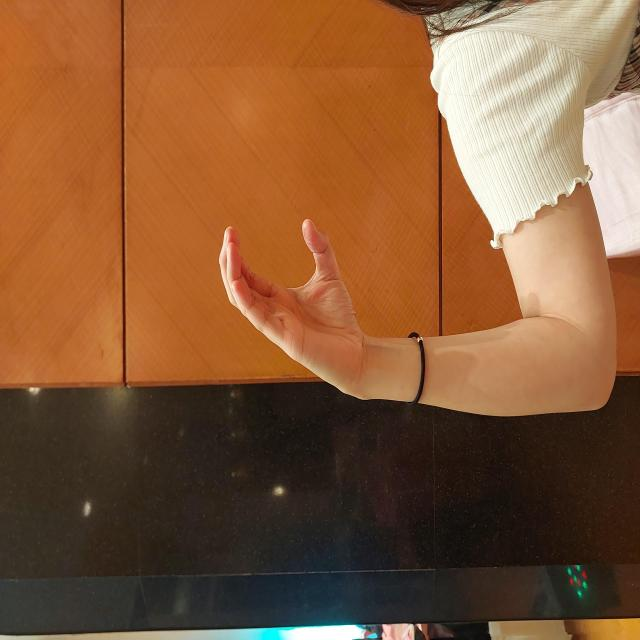C: (202, 210, 366, 375)
